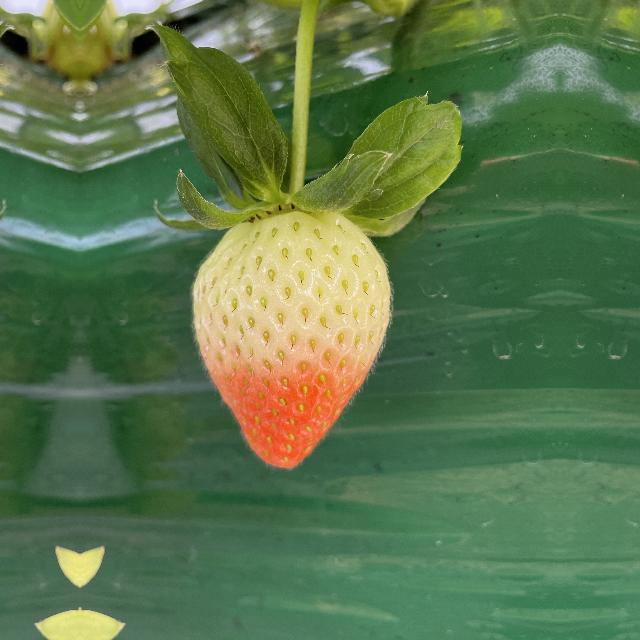Health_50: (187, 200, 401, 474)
